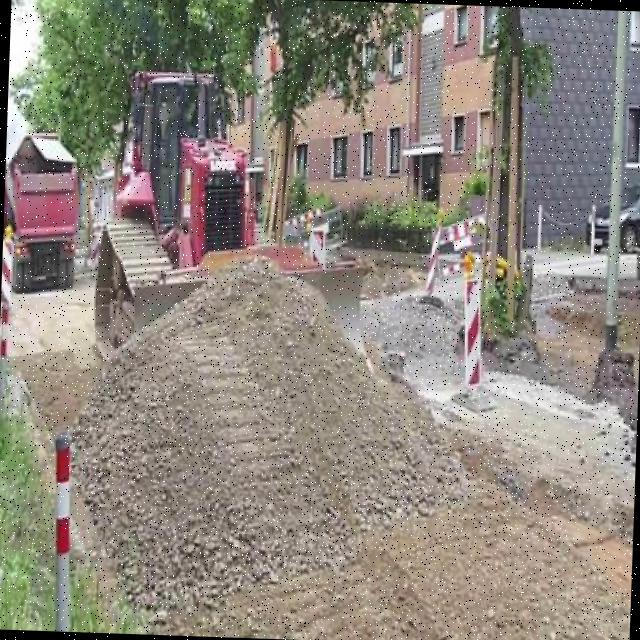Dump Truck: (1, 126, 82, 291)
